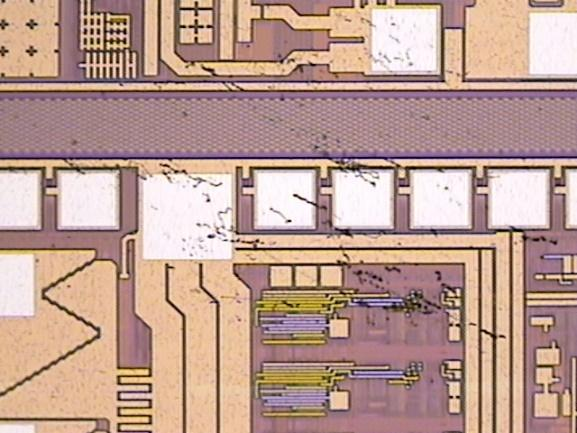SCRATCH: (52, 12, 564, 347)
